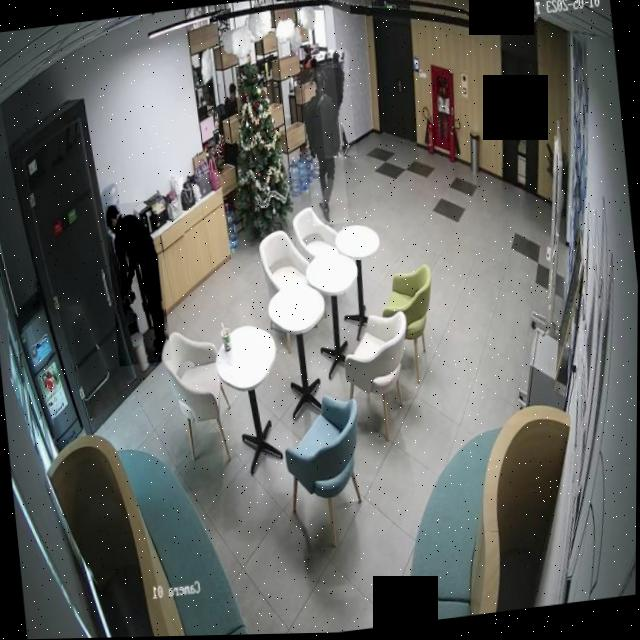person: (103, 199, 172, 367), (297, 66, 350, 228), (313, 48, 357, 160)
